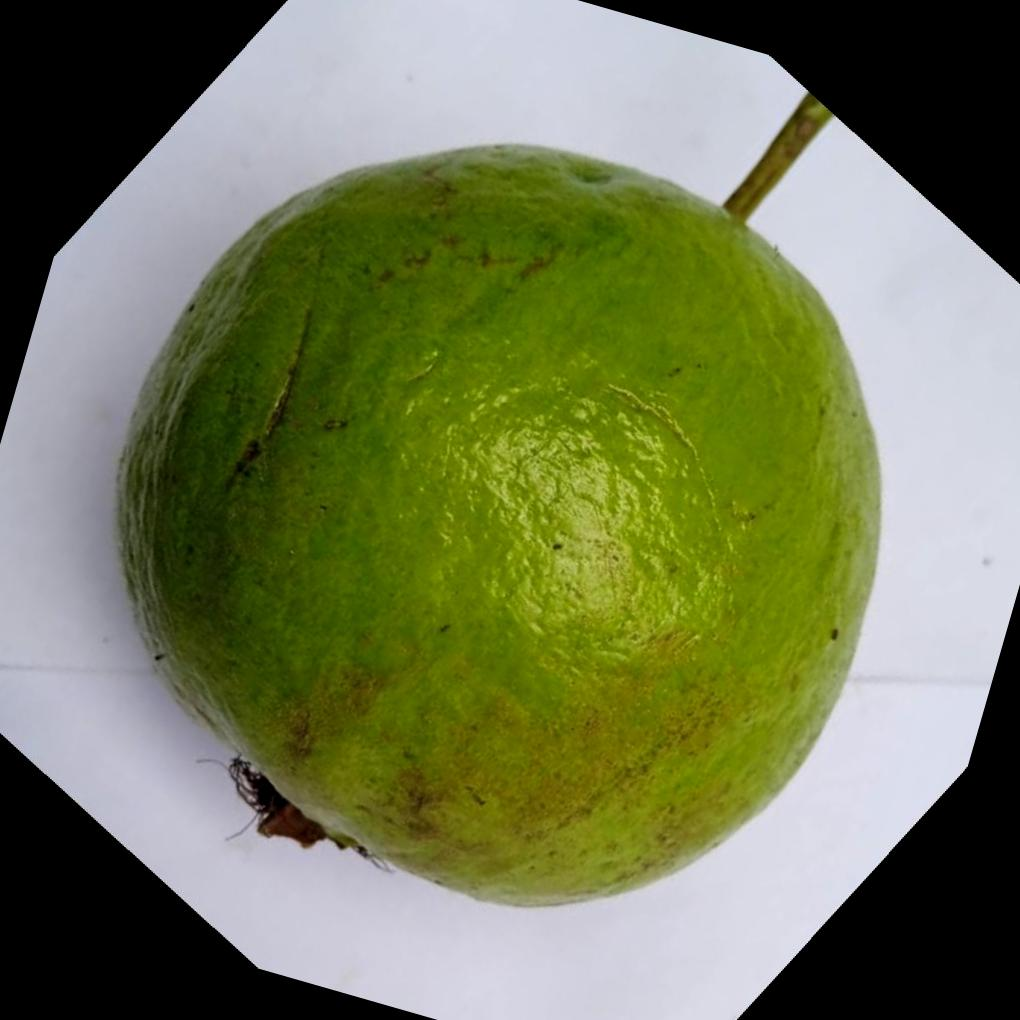FreshGuava: (113, 136, 886, 907)
